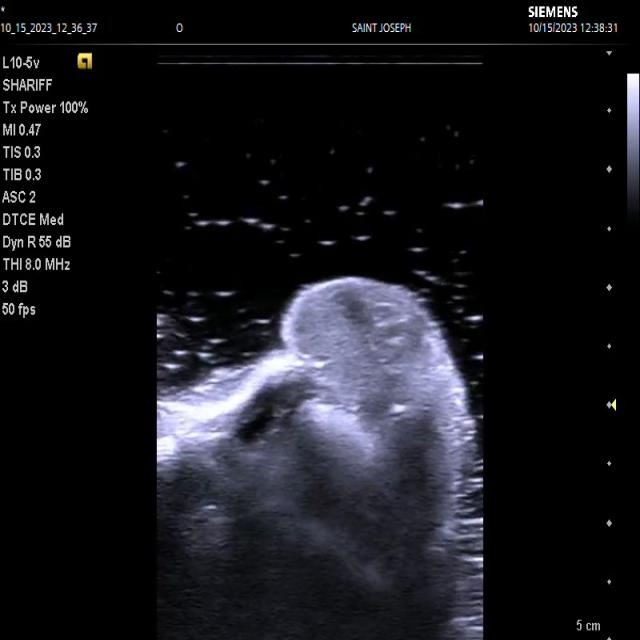tissue: (157, 276, 467, 640)
